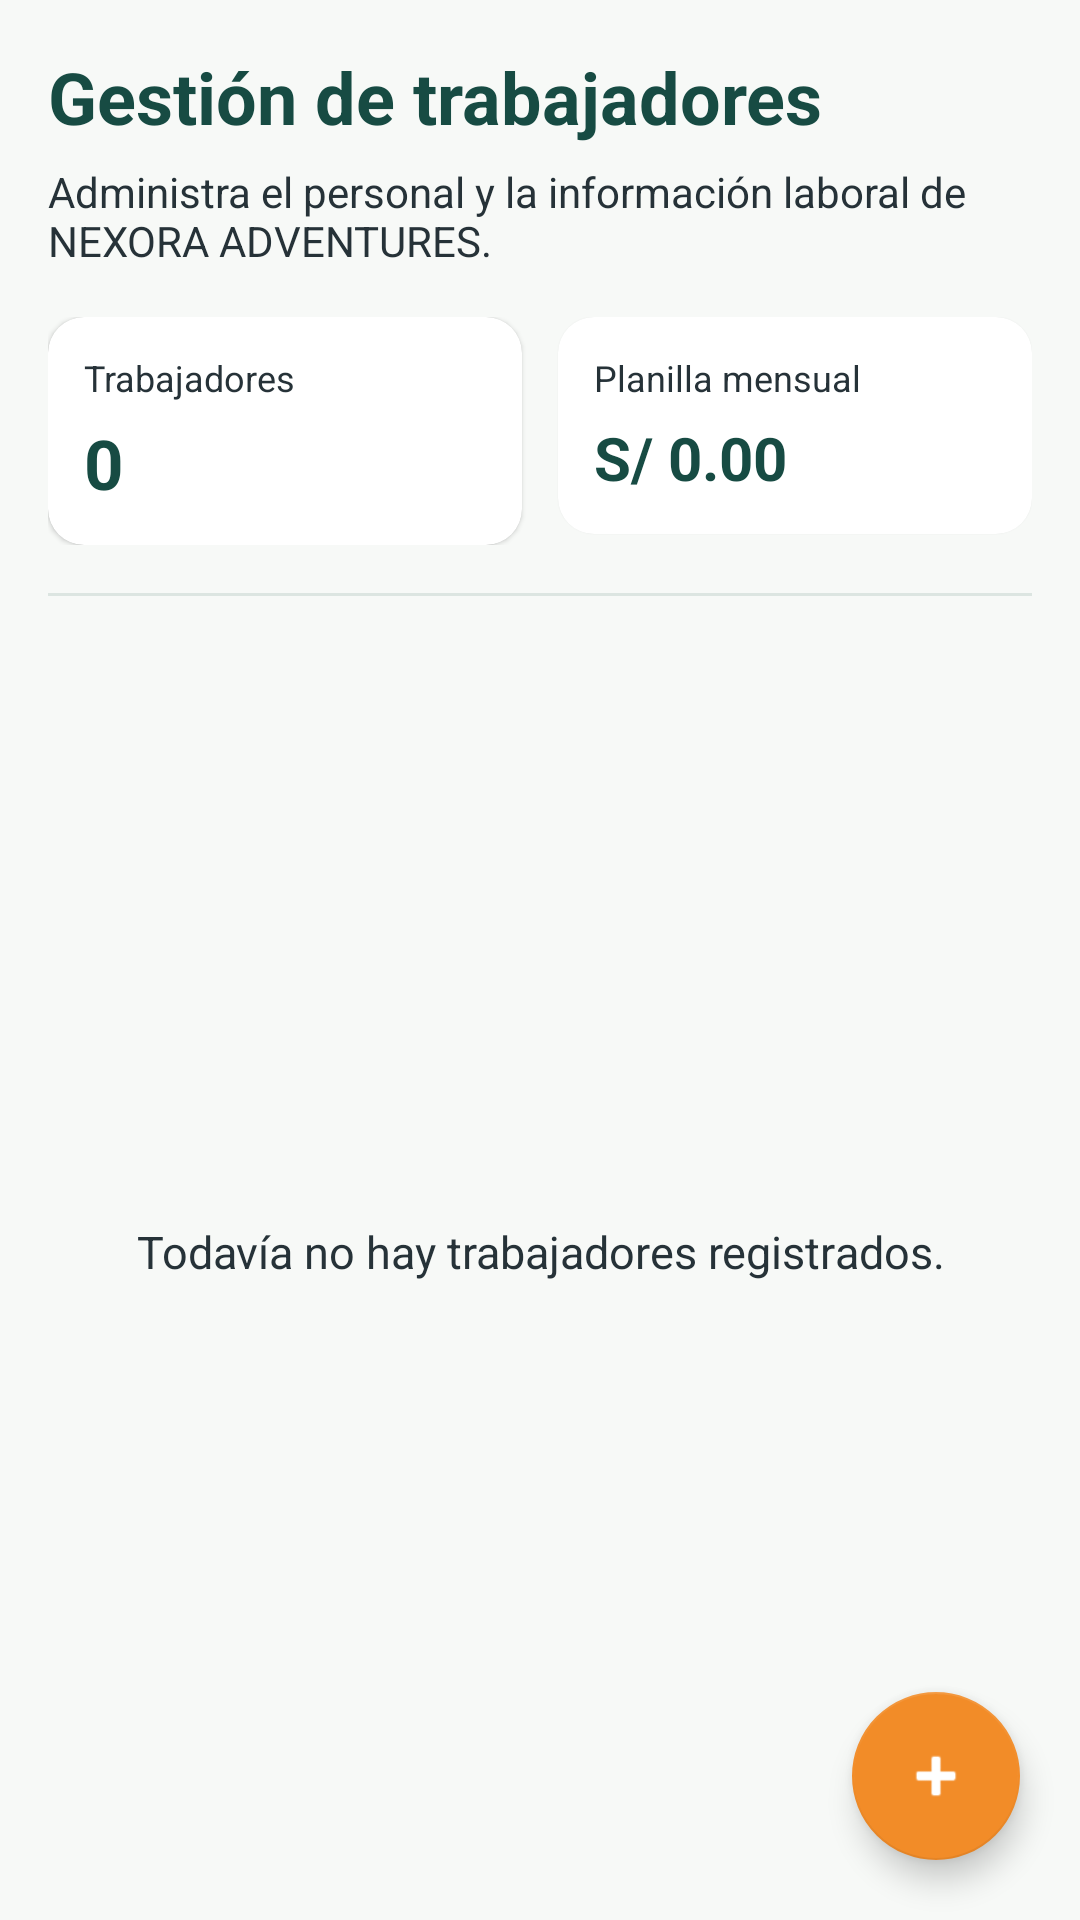

Screen size 1080*1920. Icon name, then its box in pixels as (x1,y1,x2,y2):
Registrar nuevo trabajador: (852,1692,1020,1860)
